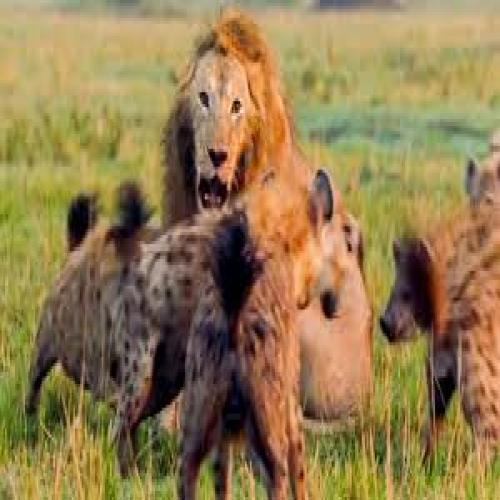lion-endangered: (162, 11, 372, 431)
